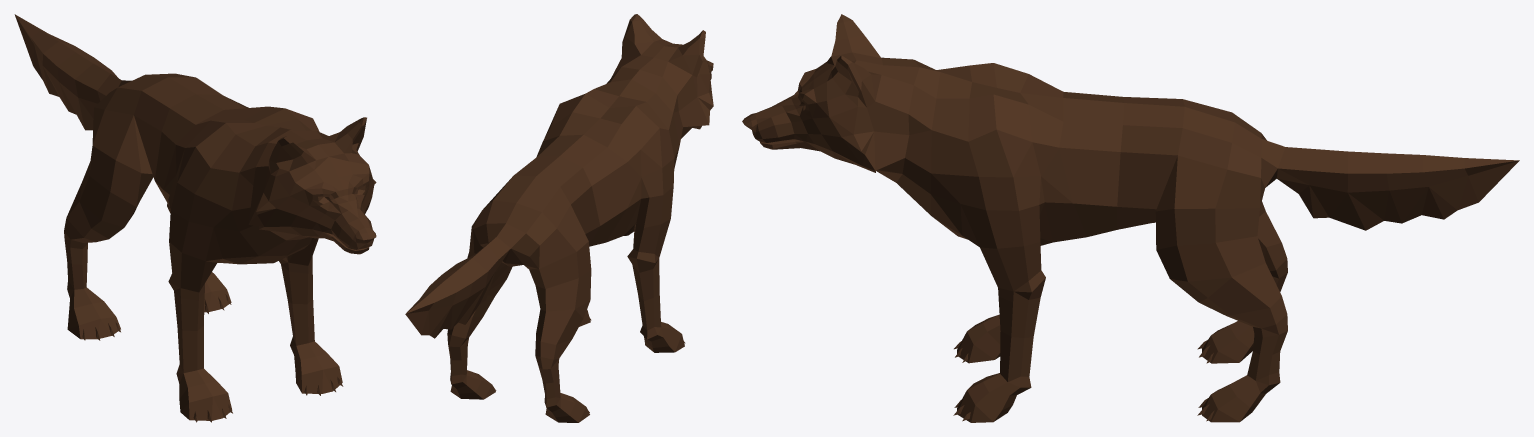
The model's file is Wolf.FBX.
3 renders of one model, left to right at view 1: azimuth 30°, elevation 25°; view 2: azimuth 150°, elevation 25°; view 3: azimuth 270°, elevation 25°, orthographic. The views are drawn at different scales.
Visible parts, largest first — view 1: Wolf; view 2: Wolf; view 3: Wolf.
Part boxes in pixels (x1,y1,x2,y2): Wolf: [14, 14, 376, 422]; Wolf: [405, 14, 713, 422]; Wolf: [742, 14, 1519, 422].
Size of the model in its own units: 70.35 by 140 by 283.
